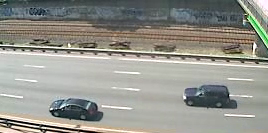car: (46, 95, 101, 123), (181, 82, 232, 111)
